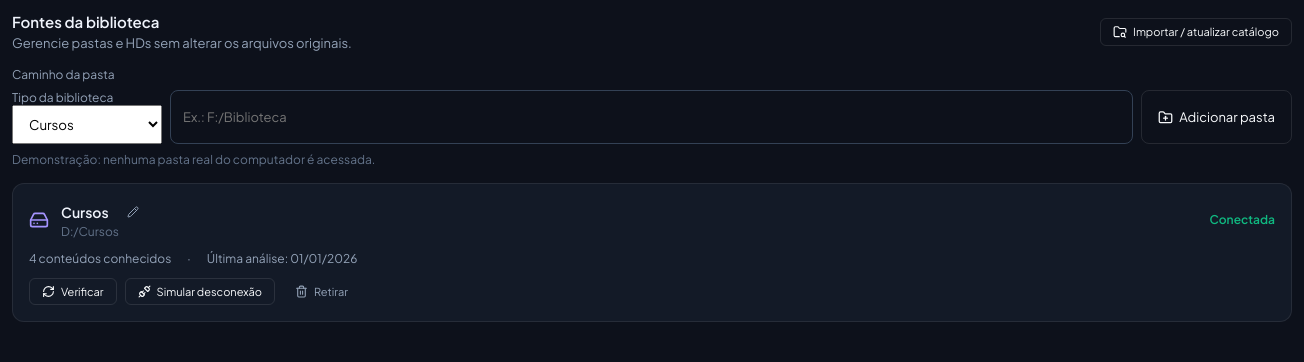
Test: LibrarySourcesPanel › avisa quando a fonte informada já existe
Type "d:/cursos/" into the field labelled "Caminho da pasta".
click(652, 117); type("d:/cursos/")  # box x1=170 y1=90 x2=1133 y2=144
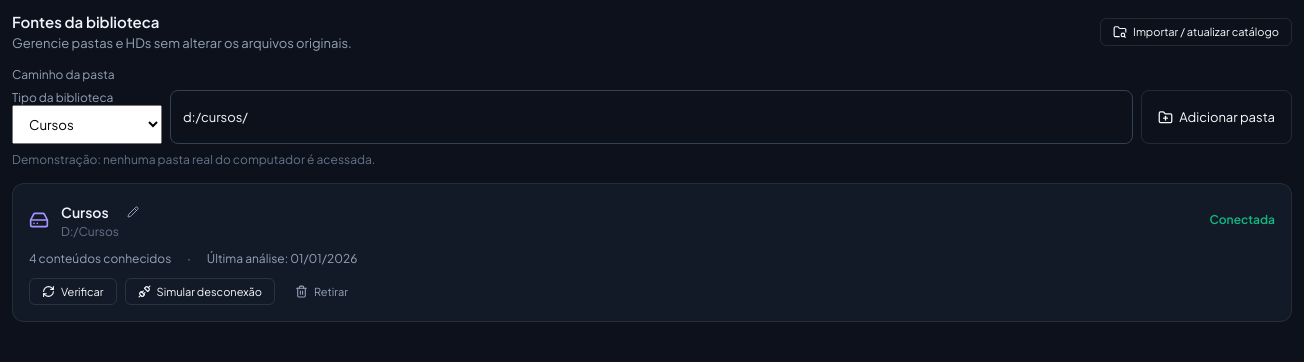
Click the button "Adicionar pasta".
click(1217, 117)  # box x1=1141 y1=90 x2=1292 y2=144
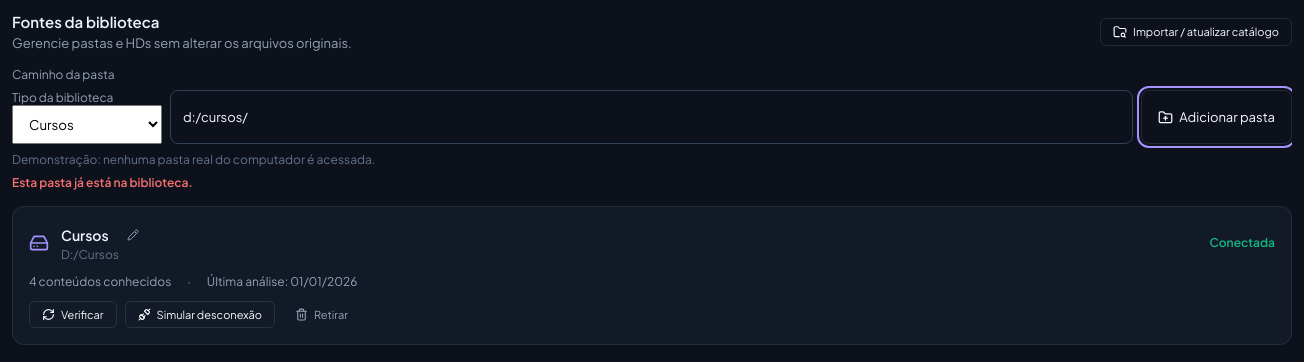
Check: the message shows "já está na biblioteca", box x1=12 y1=175 x2=193 y2=190
